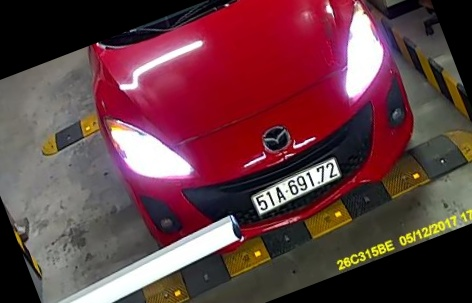plate: (247, 152, 345, 224)
